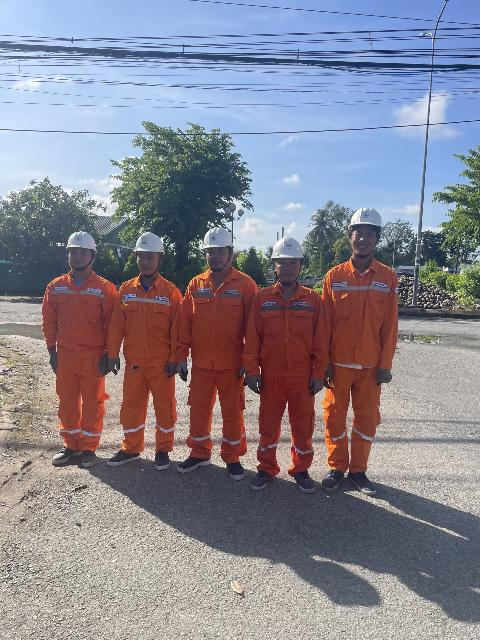gloves: (95, 352, 112, 382), (304, 374, 325, 398), (377, 362, 394, 390), (320, 366, 337, 392), (105, 356, 125, 377), (246, 374, 266, 393), (181, 352, 193, 382), (48, 355, 63, 375), (161, 361, 181, 376), (236, 367, 251, 387)
helmet: (197, 222, 242, 255), (63, 222, 102, 255), (266, 234, 308, 262), (129, 231, 170, 258), (348, 206, 388, 233)
shoes: (341, 461, 383, 502), (173, 444, 212, 478), (308, 464, 347, 493), (244, 461, 273, 497), (289, 463, 317, 498), (69, 443, 106, 467), (214, 456, 248, 481), (103, 446, 147, 462), (146, 443, 172, 470), (46, 445, 78, 466)
